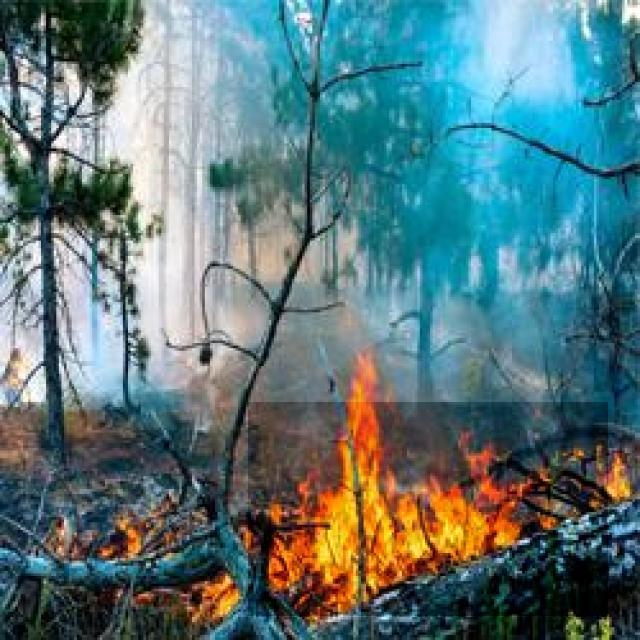Fire: (248, 402, 608, 616)
